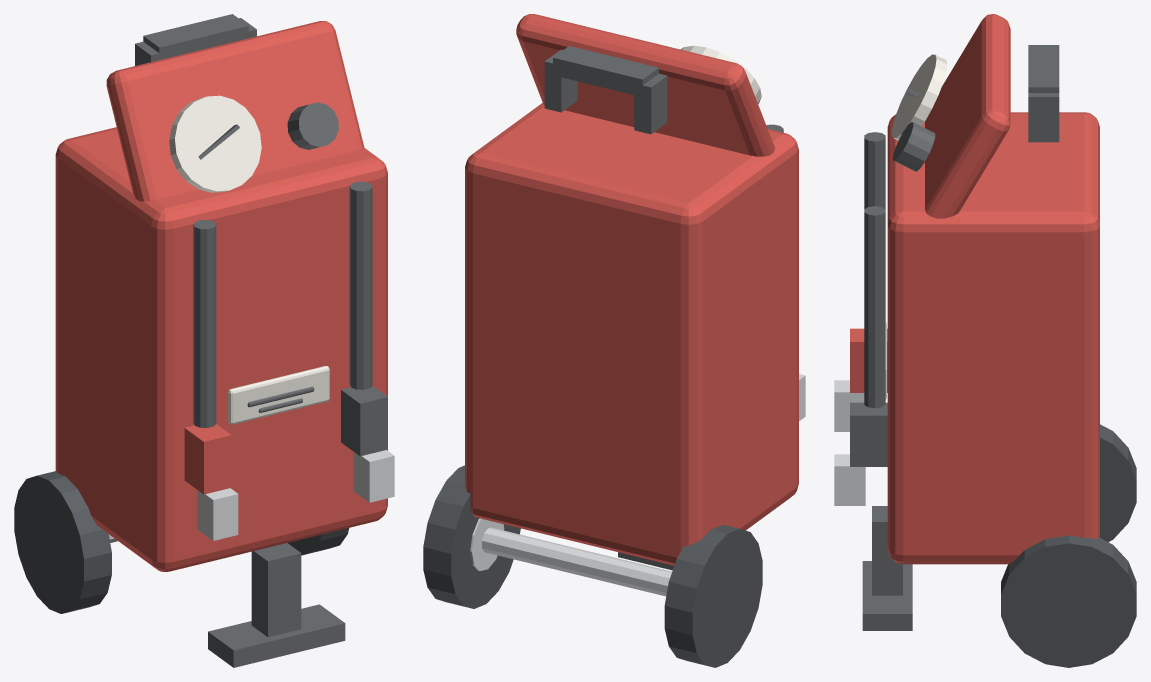
The model's file is car-repair-garage-and-mot-workshop-car-repair-garage-a-0728eccc__34017.glb.
The picture shows the model from 3 angles, left to right: view 1: azimuth 30°, elevation 25°; view 2: azimuth 150°, elevation 25°; view 3: azimuth 270°, elevation 25°; orthographic projection. The views are drawn at different scales.
Parts seen in each view (by area): view 1: car-repair-garage-and-mot-workshop-battery-charger-trolley; view 2: car-repair-garage-and-mot-workshop-battery-charger-trolley; view 3: car-repair-garage-and-mot-workshop-battery-charger-trolley.
Boxes of the visible parts, box(x1,y1,x2,y2) form: car-repair-garage-and-mot-workshop-battery-charger-trolley: box(14, 14, 394, 667); car-repair-garage-and-mot-workshop-battery-charger-trolley: box(423, 14, 805, 667); car-repair-garage-and-mot-workshop-battery-charger-trolley: box(834, 14, 1136, 667).
Bounding box in the file's own units: 0.48 × 0.9565 × 0.4833.
